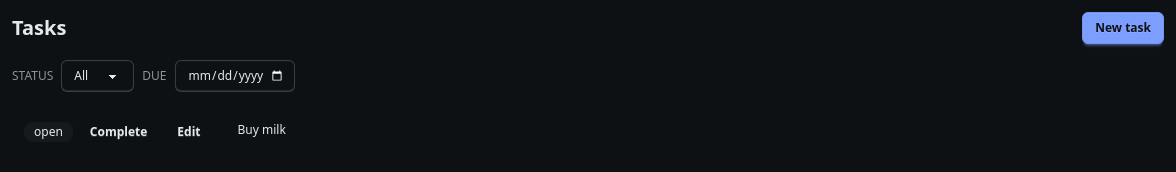
Test: TasksPage › surfaces a failed status toggle as an error
This screenshot has width=1176, height=172.
Step 1. Click the button with aria-label "Complete Buy milk" → (119, 132), box [77, 116, 160, 148]
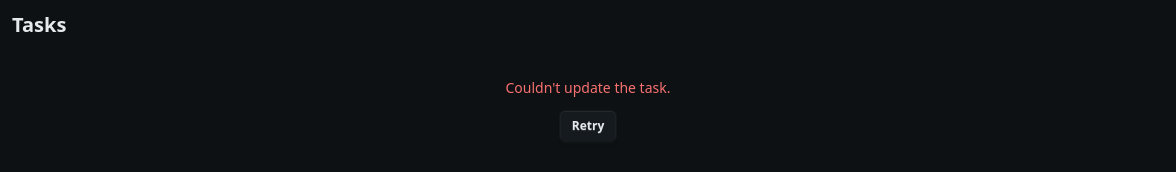
Now the message "Couldn't update the task. Retry" is shown, box [506, 78, 670, 142]
Now the text "Couldn't update the task." is shown, box [506, 78, 670, 98]
